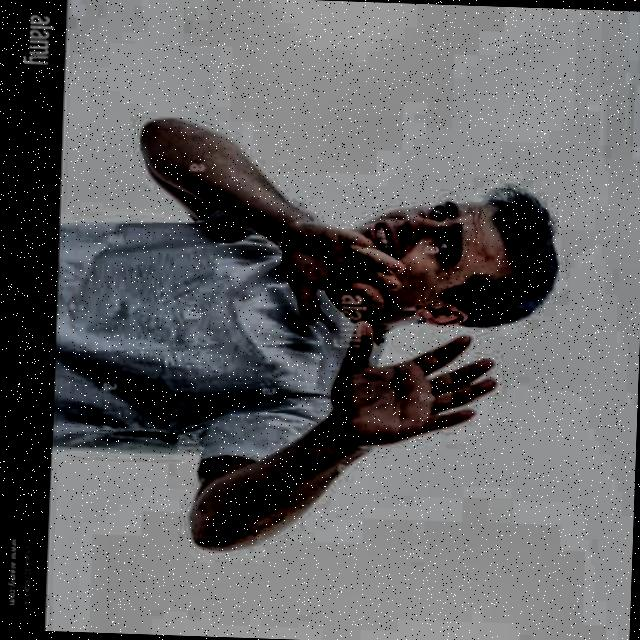fear: (309, 169, 567, 350)
